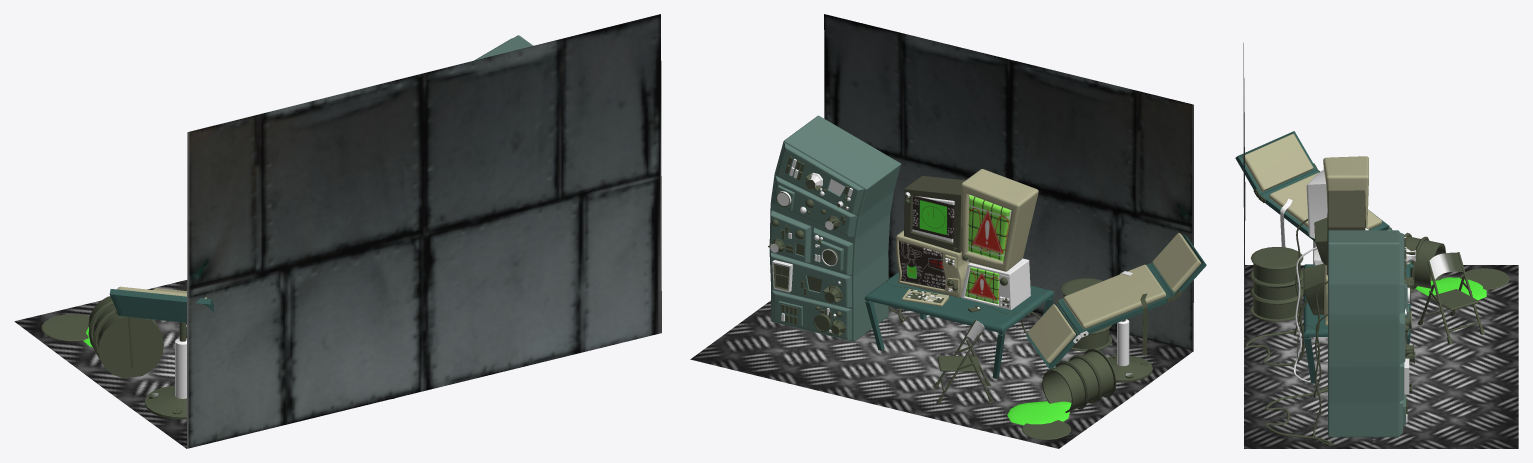
Rendered from laboratorio_frank.obj.
3 views of the same model, side by side, from view 1: azimuth 30°, elevation 25°; view 2: azimuth 150°, elevation 25°; view 3: azimuth 270°, elevation 25° (orthographic). The views are drawn at different scales.
Parts seen in each view (by area): view 1: Laboratorio_Material.002; view 2: Laboratorio_Material.002; view 3: Laboratorio_Material.002.
Boxes of the visible parts, x1,y1,x2,y2 form: Laboratorio_Material.002: (14, 14, 661, 448); Laboratorio_Material.002: (690, 14, 1206, 448); Laboratorio_Material.002: (1235, 43, 1518, 448).
Size of the model in its own units: 7.72 by 4.57 by 4.58.
